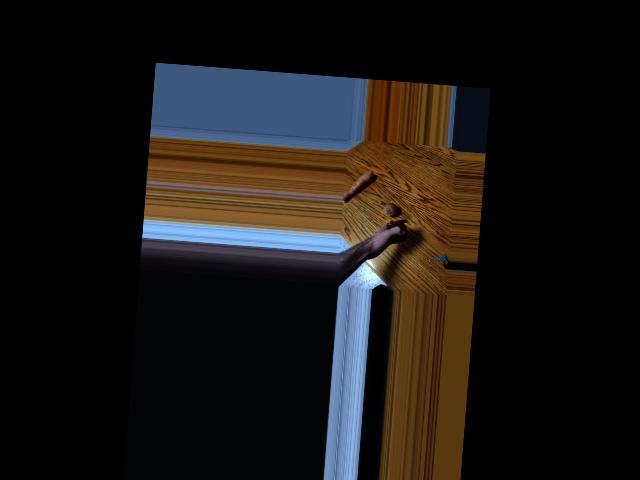onion: (383, 200, 398, 219)
